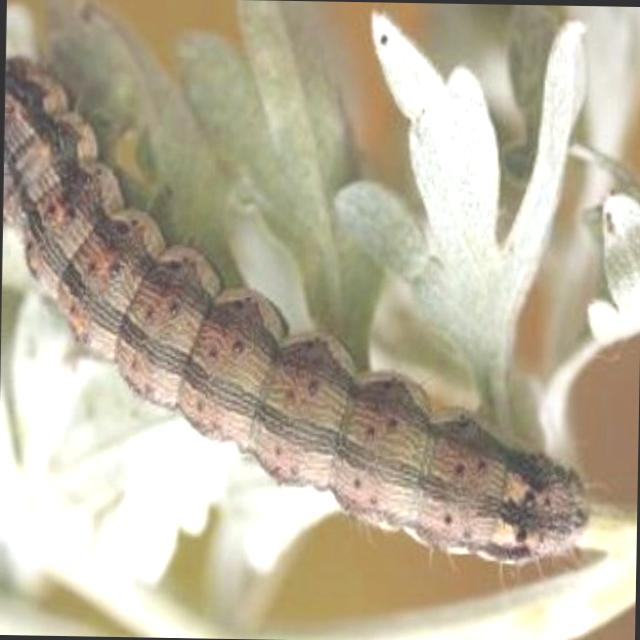Cotton bollworm: (0, 32, 608, 597)
